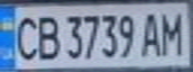3: (60, 11, 84, 61), (100, 11, 121, 60)
7: (78, 11, 100, 60)
9: (115, 10, 139, 58)
A: (139, 9, 166, 57)
B: (33, 11, 60, 61)
C: (6, 11, 42, 62)
M: (157, 7, 190, 56)
